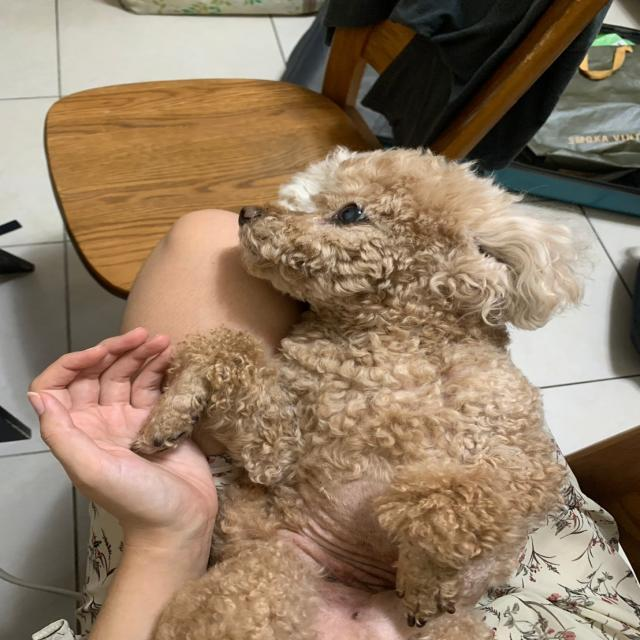adult_dog: (130, 144, 592, 640)
